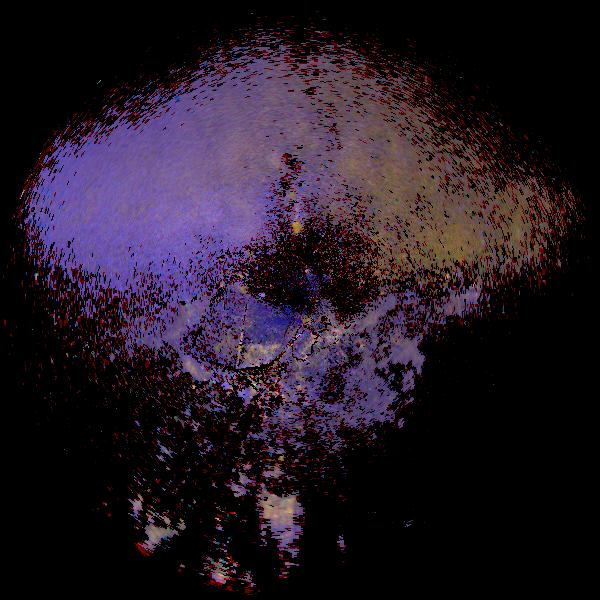roost: (165, 450, 171, 456)
